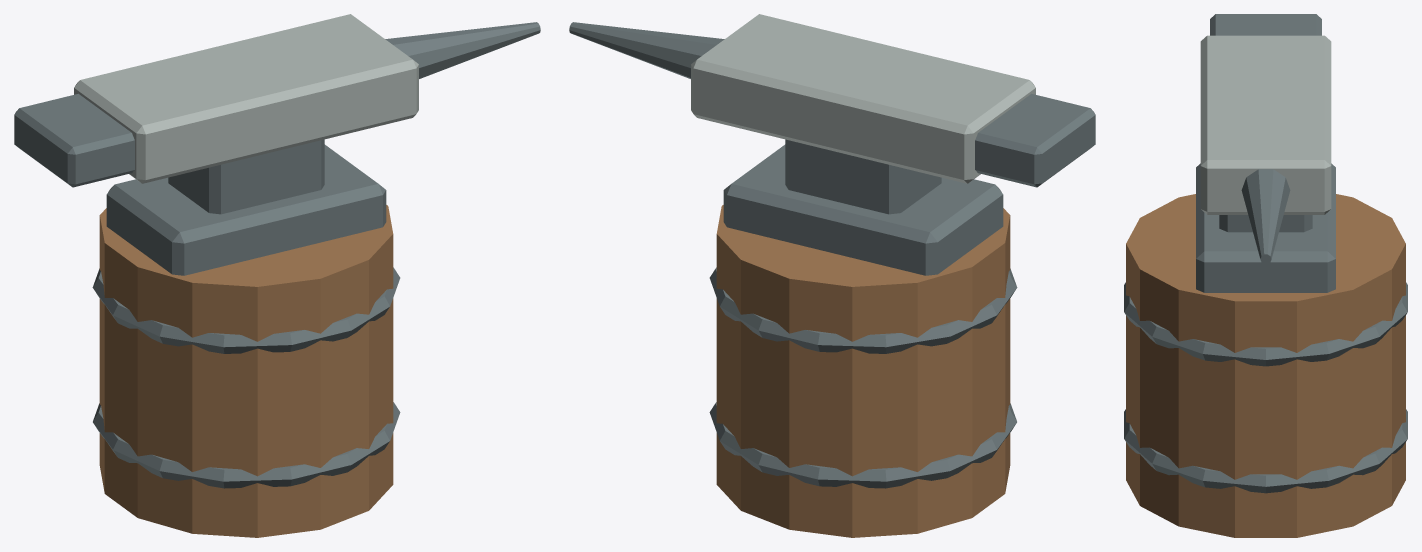
The picture shows the model from 3 angles, left to right: view 1: azimuth 30°, elevation 25°; view 2: azimuth 150°, elevation 25°; view 3: azimuth 270°, elevation 25°; orthographic projection. The views are drawn at different scales.
Visible parts, largest first — view 1: village-anvil-stump-01; view 2: village-anvil-stump-01; view 3: village-anvil-stump-01.
Part boxes in pixels (x1,y1,x2,y2): village-anvil-stump-01: (14, 14, 540, 537); village-anvil-stump-01: (569, 14, 1095, 537); village-anvil-stump-01: (1124, 14, 1407, 537).
Size of the model in its own units: 1.16 by 0.905 by 0.6084.
